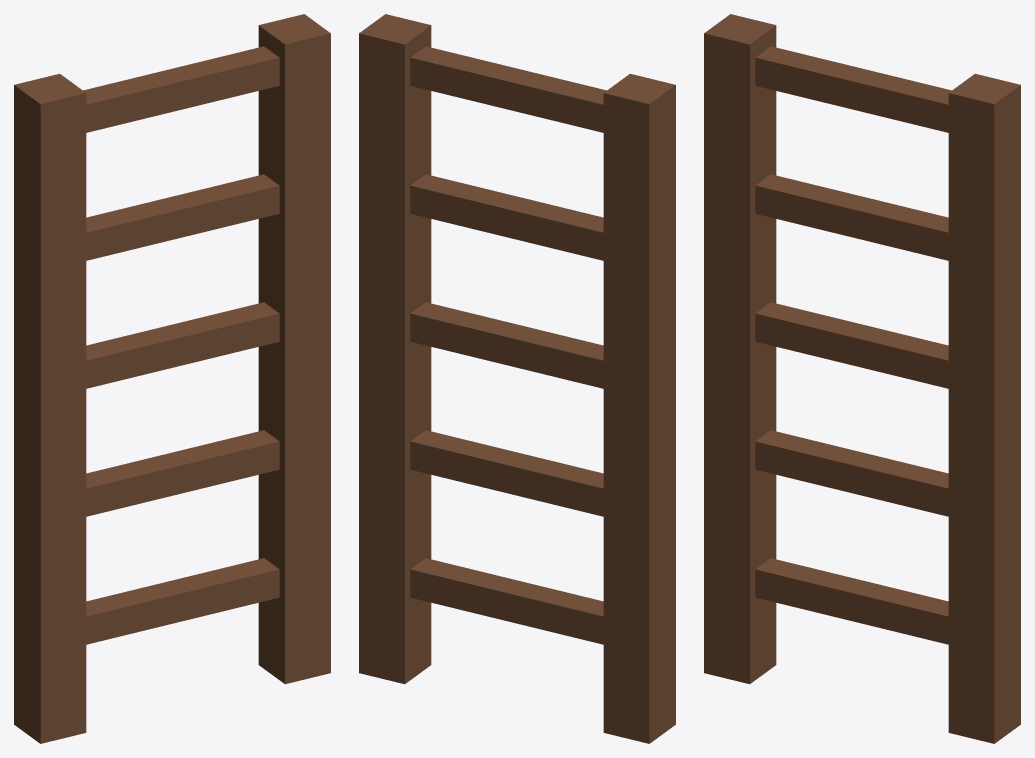
The model's file is ladder.glb.
The picture shows the model from 3 angles, left to right: view 1: azimuth 30°, elevation 25°; view 2: azimuth 150°, elevation 25°; view 3: azimuth 330°, elevation 25°; orthographic projection.
Parts seen in each view (by area): view 1: Ladder; view 2: Ladder; view 3: Ladder.
Boxes of the visible parts, x1,y1,x2,y2 form: Ladder: (14, 14, 330, 743); Ladder: (359, 14, 675, 743); Ladder: (704, 14, 1020, 743).
Bounding box in the file's own units: 0.475 × 1 × 0.075.
